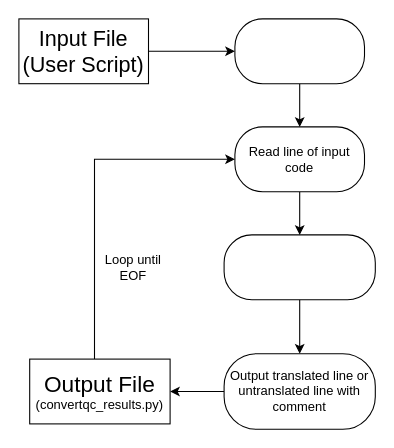
The diagram is 394 pixels wide and 448 high, and some of its shapes have lost their labels. Here are the shapes that lost their labels. From the top down, the centre of each, then its label:
At point 299,51: "process_<format>()".
At point 299,267: "Attempt to translate the line appropriately".
